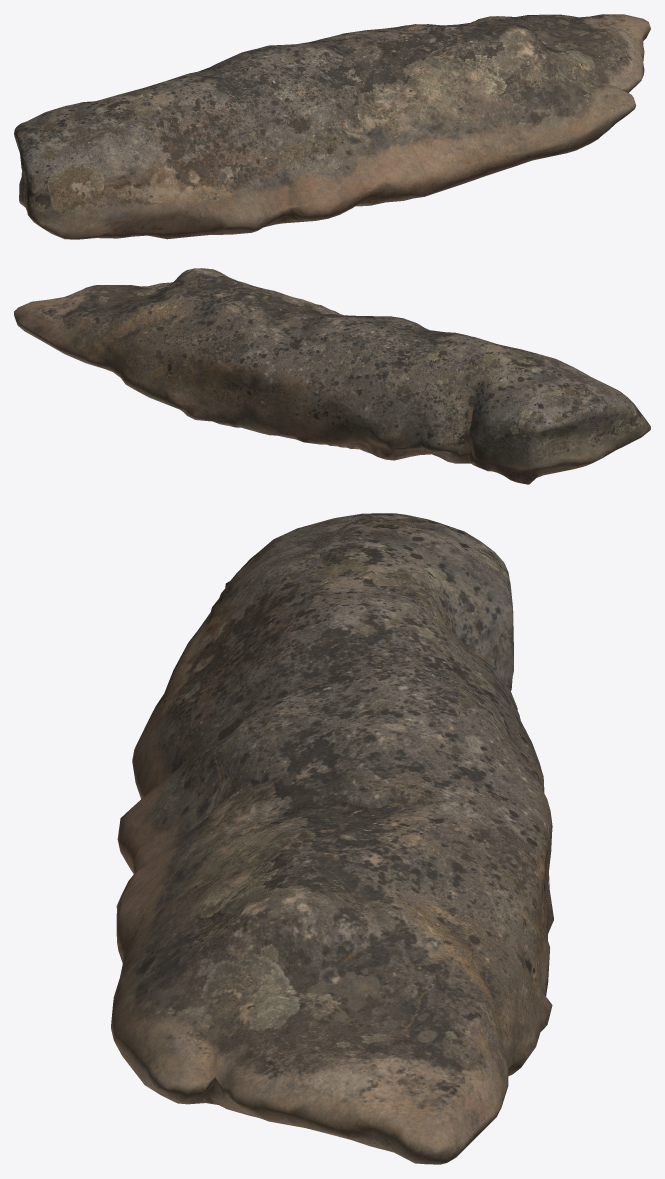
Rendered from SM_ydelcao_tier_2.gltf.
3 views of the same model, one above another, from view 1: azimuth 30°, elevation 25°; view 2: azimuth 150°, elevation 25°; view 3: azimuth 270°, elevation 25° (orthographic). The views are drawn at different scales.
Visible parts, largest first — view 1: ydelcao_LOD2_TIER2_000; view 2: ydelcao_LOD2_TIER2_000; view 3: ydelcao_LOD2_TIER2_000.
Part boxes in pixels (x1=…): ydelcao_LOD2_TIER2_000: x1=14, y1=14, x2=650, y2=239; ydelcao_LOD2_TIER2_000: x1=14, y1=268, x2=650, y2=484; ydelcao_LOD2_TIER2_000: x1=111, y1=513, x2=553, y2=1164.
Bounding box in the file's own units: 1.23 × 0.2115 × 0.3986.
Materials: 1 (1 with a texture image).
